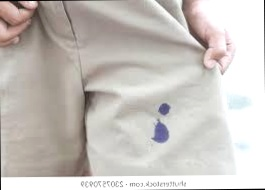ink: (153, 123, 168, 144), (158, 104, 170, 115)
